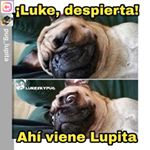puppy: (34, 16, 114, 78), (33, 80, 107, 133)
